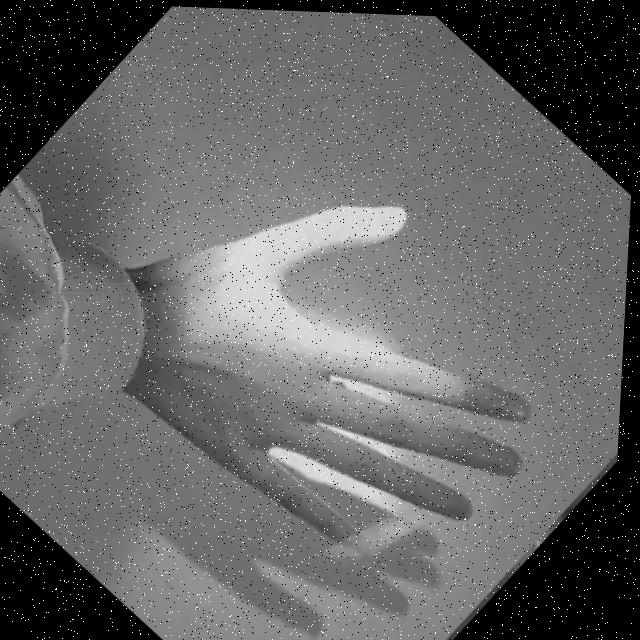hand: (95, 118, 618, 629)
